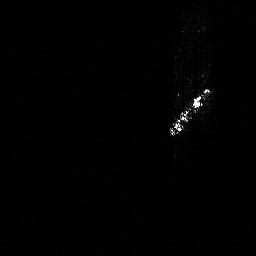ship: (166, 85, 212, 139)
